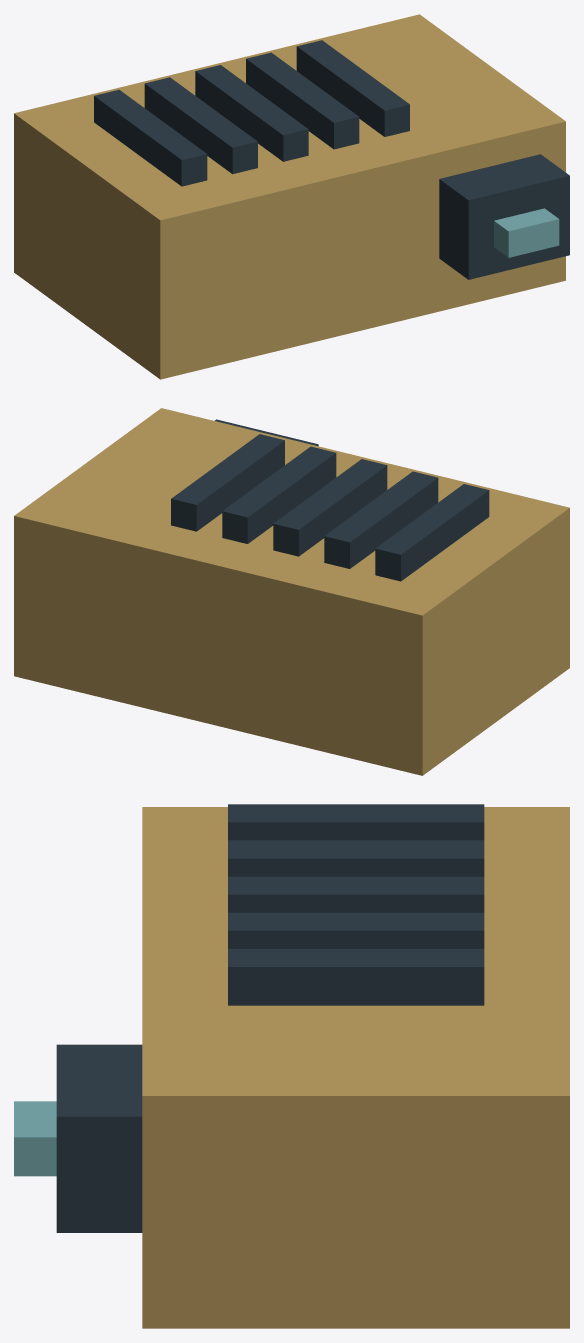
The model's file is education-17.glb.
3 views of the same model, one above another, from view 1: azimuth 30°, elevation 25°; view 2: azimuth 150°, elevation 25°; view 3: azimuth 270°, elevation 25° (orthographic). The views are drawn at different scales.
Visible parts, largest first — view 1: Lesson projector; view 2: Lesson projector; view 3: Lesson projector.
Part boxes in pixels (<box>): Lesson projector: <box>14,14,569,379</box>; Lesson projector: <box>14,408,569,775</box>; Lesson projector: <box>14,804,569,1328</box>.
Bounding box in the file's own units: 1.28 × 0.56 × 1.04.
